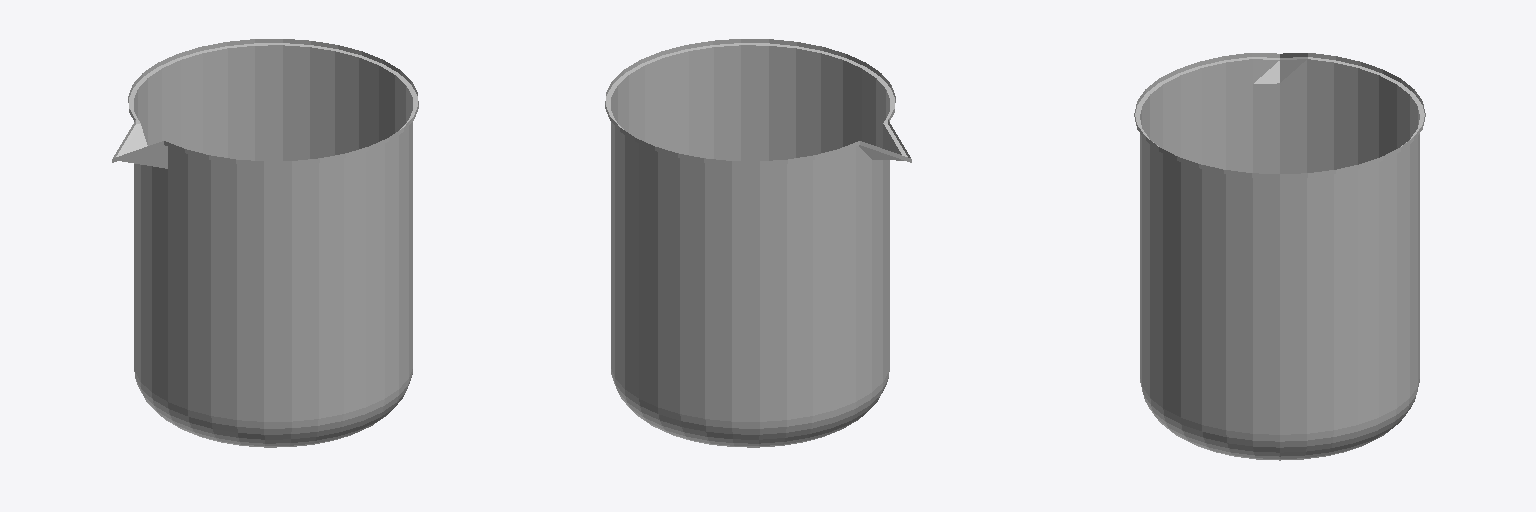
Rendered from becher.obj.
3 renders of one model, left to right at view 1: azimuth 30°, elevation 25°; view 2: azimuth 150°, elevation 25°; view 3: azimuth 270°, elevation 25°, orthographic.
Visible parts, largest first — view 1: Circle; view 2: Circle; view 3: Circle.
Part boxes in pixels (left/top/right/bottom): Circle: left=112, top=39, right=418, bottom=447; Circle: left=605, top=39, right=911, bottom=447; Circle: left=1134, top=53, right=1425, bottom=460.
Bounding box in the file's own units: 3.14 × 3.17 × 2.76.